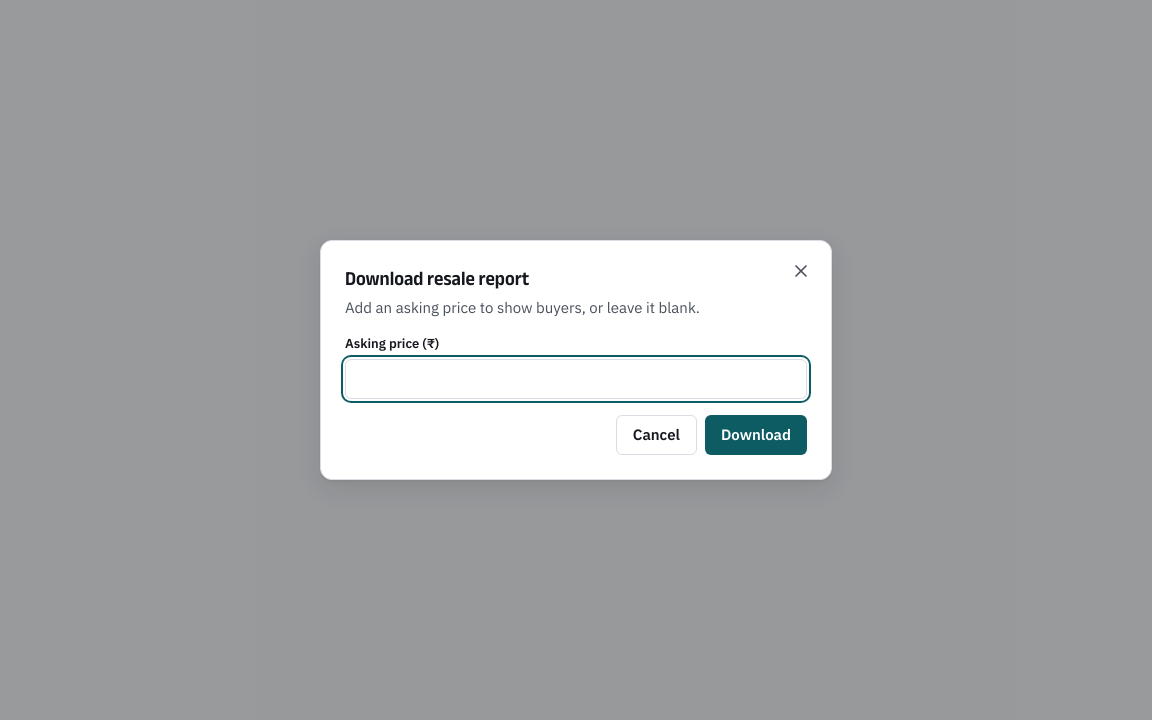
ResaleReportDialog › rejects a negative price
This screenshot has width=1152, height=720.
Type "-5" into the field labelled "Asking price (₹)" at point(576, 379), box [345,359,807,399]
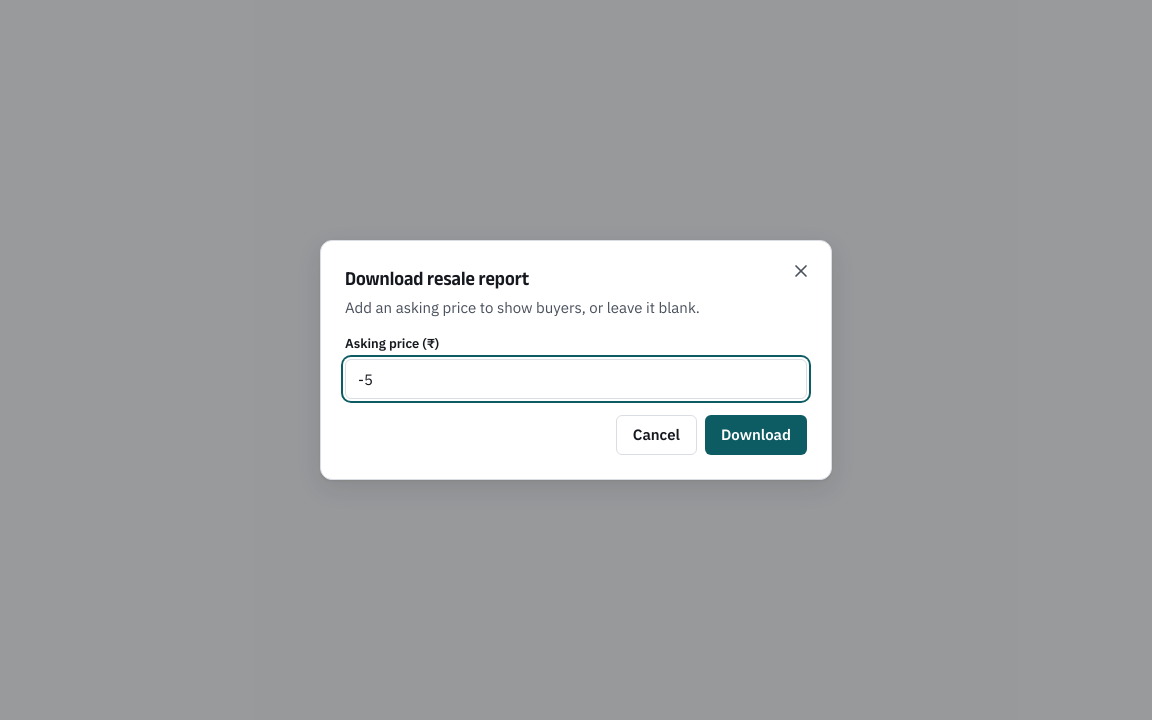
Click the button "Download" at point(756, 435), box [705,415,807,455]
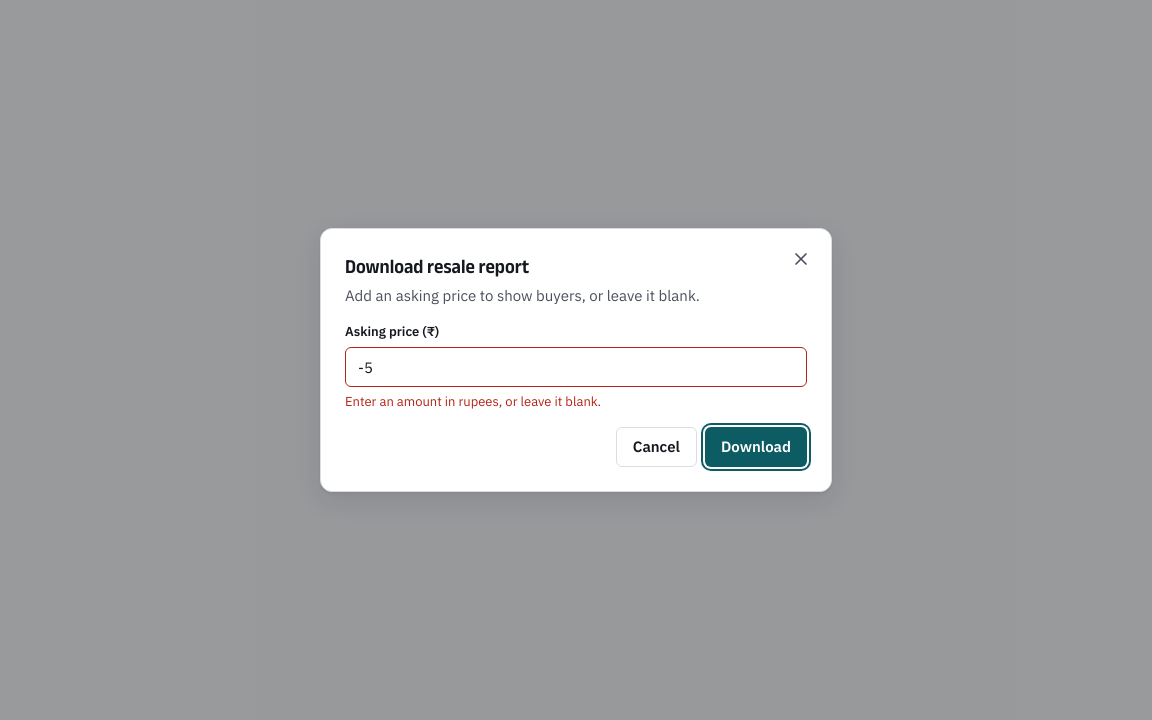
Expected: the text "Enter an amount in rupees, or leave it blank." is shown, [345,393,601,410]
